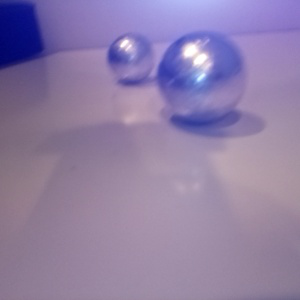alive_ball: (157, 31, 245, 125), (107, 34, 156, 84)
